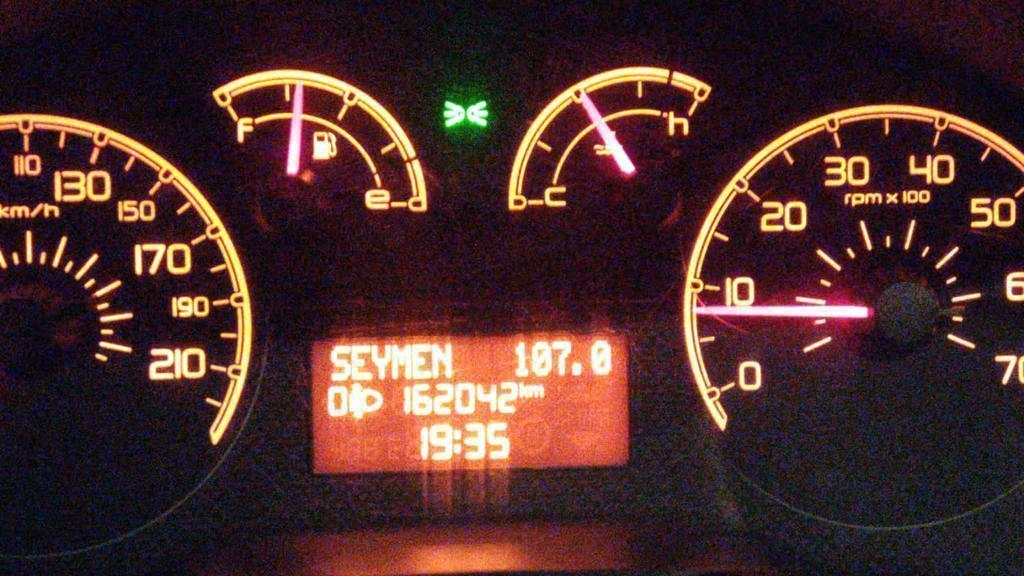,: (570, 362, 583, 376)
0: (529, 341, 553, 377), (590, 339, 612, 375), (326, 384, 348, 418), (455, 381, 476, 414)
1: (513, 341, 529, 377), (419, 426, 429, 460), (402, 385, 412, 414)
2: (432, 382, 454, 415), (497, 380, 518, 414)
3: (462, 420, 486, 460)
4: (475, 382, 498, 412)
5: (486, 420, 511, 459)
6: (412, 383, 432, 415)
7: (551, 340, 572, 377)
9: (428, 422, 452, 460)
X: (411, 343, 433, 380), (329, 344, 351, 381), (351, 344, 372, 382), (371, 343, 391, 382), (391, 343, 412, 380), (432, 342, 452, 380), (452, 428, 462, 455), (530, 385, 546, 399), (518, 381, 530, 397)
odometer: (305, 329, 633, 477)
